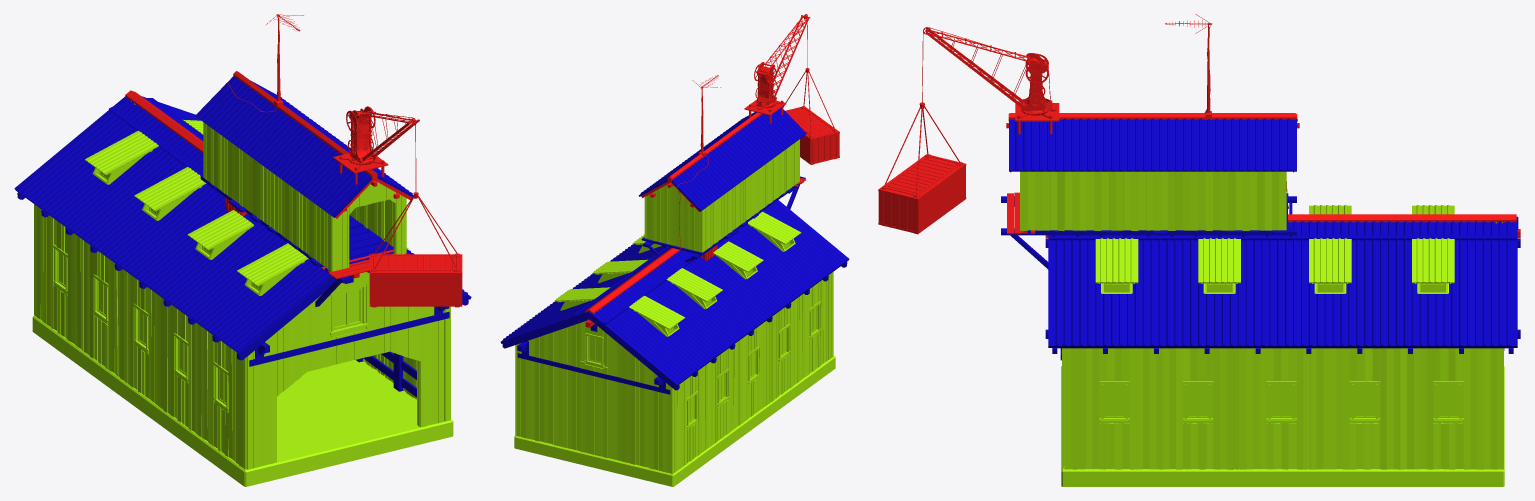
The model's file is granero_00.fbx.
3 views of the same model, side by side, from view 1: azimuth 30°, elevation 25°; view 2: azimuth 150°, elevation 25°; view 3: azimuth 270°, elevation 25° (orthographic). The views are drawn at different scales.
Parts seen in each view (by area): view 1: granero_00; view 2: granero_00; view 3: granero_00.
Part boxes in pixels (bbox=[...]): granero_00: bbox=[14, 14, 471, 486]; granero_00: bbox=[500, 14, 849, 486]; granero_00: bbox=[878, 14, 1520, 486].
Size of the model in its own units: 1084 by 1759 by 2492.
